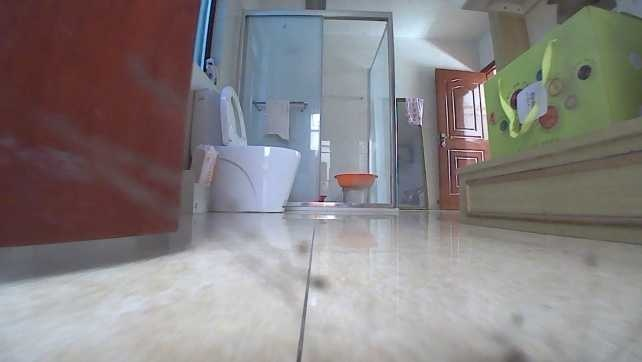door_anno: (434, 67, 495, 210)
toilet: (190, 84, 303, 214)
